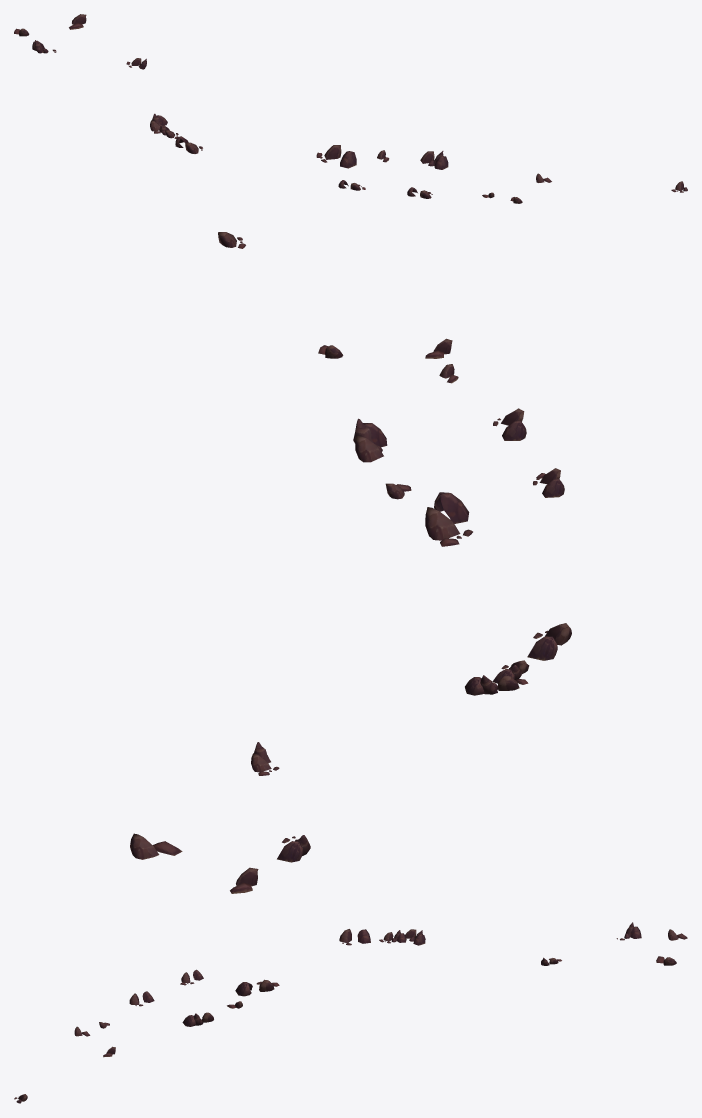
Rendered from area_14_shanshi01.FBX.
3 renders of one model, top to bottom at view 1: azimuth 30°, elevation 25°; view 2: azimuth 150°, elevation 25°; view 3: azimuth 270°, elevation 25°, orthographic. The views are drawn at different scales.
Parts seen in each view (by area): view 1: area_14_shanshi01; view 2: area_14_shanshi01; view 3: area_14_shanshi01.
Part boxes in pixels (bbox=[...]): area_14_shanshi01: bbox=[14, 14, 687, 203]; area_14_shanshi01: bbox=[130, 232, 571, 893]; area_14_shanshi01: bbox=[14, 922, 687, 1103].
Bounding box in the file's own units: 8672 × 344 × 14479.
